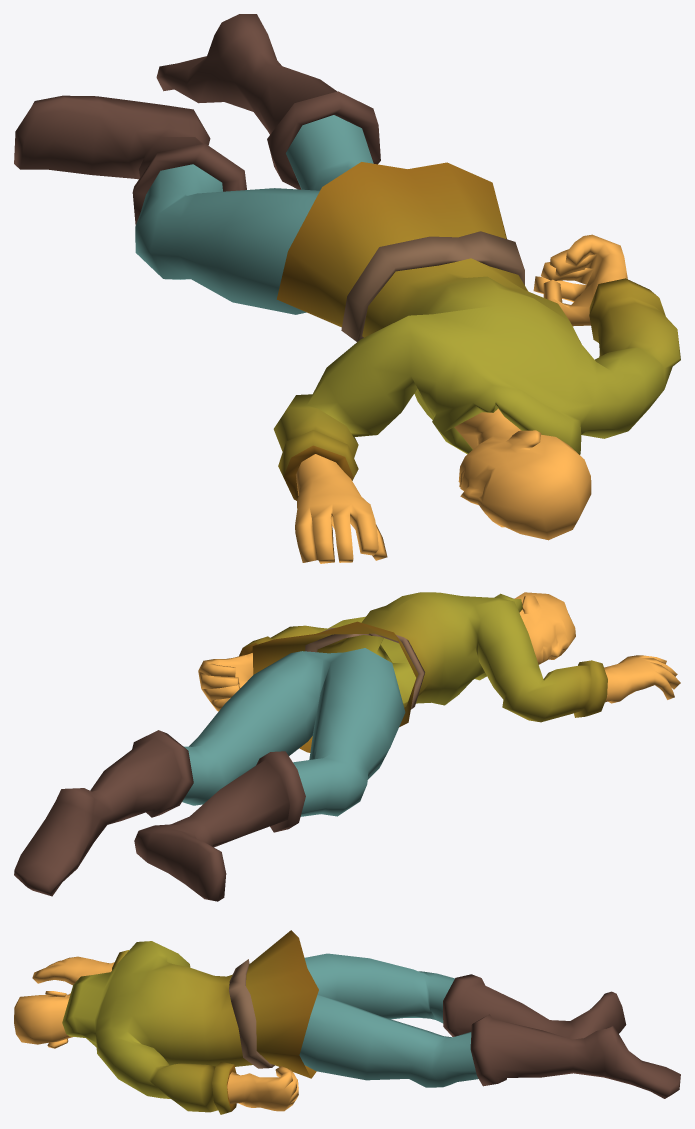
File: body.fbx
3 views of the same model, one above another, from view 1: azimuth 30°, elevation 25°; view 2: azimuth 150°, elevation 25°; view 3: azimuth 270°, elevation 25° (orthographic). The views are drawn at different scales.
Parts seen in each view (by area): view 1: TestGuy; view 2: TestGuy; view 3: TestGuy.
Boxes of the visible parts, left/top/right/bottom form: TestGuy: left=14, top=14, right=680, bottom=563; TestGuy: left=14, top=592, right=680, bottom=901; TestGuy: left=14, top=930, right=680, bottom=1114.
Bounding box in the file's own units: 0.7427 × 0.295 × 1.45.
